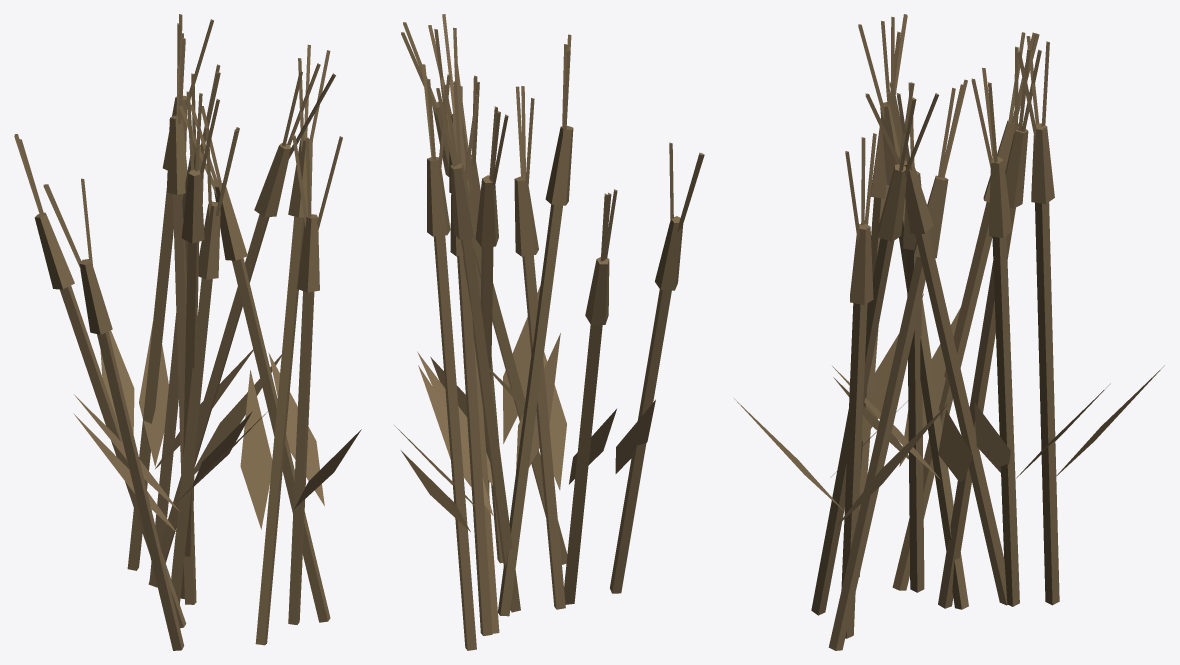
Rendered from barley_dead.glb.
The picture shows the model from 3 angles, left to right: view 1: azimuth 30°, elevation 25°; view 2: azimuth 150°, elevation 25°; view 3: azimuth 270°, elevation 25°; orthographic projection. The views are drawn at different scales.
Parts seen in each view (by area): view 1: barley; view 2: barley; view 3: barley.
Boxes of the visible parts, <box> form: barley: <box>14,14,361,650</box>; barley: <box>394,14,704,650</box>; barley: <box>734,14,1164,650</box>.
Size of the model in its own units: 0.3038 by 0.5448 by 0.3653.
